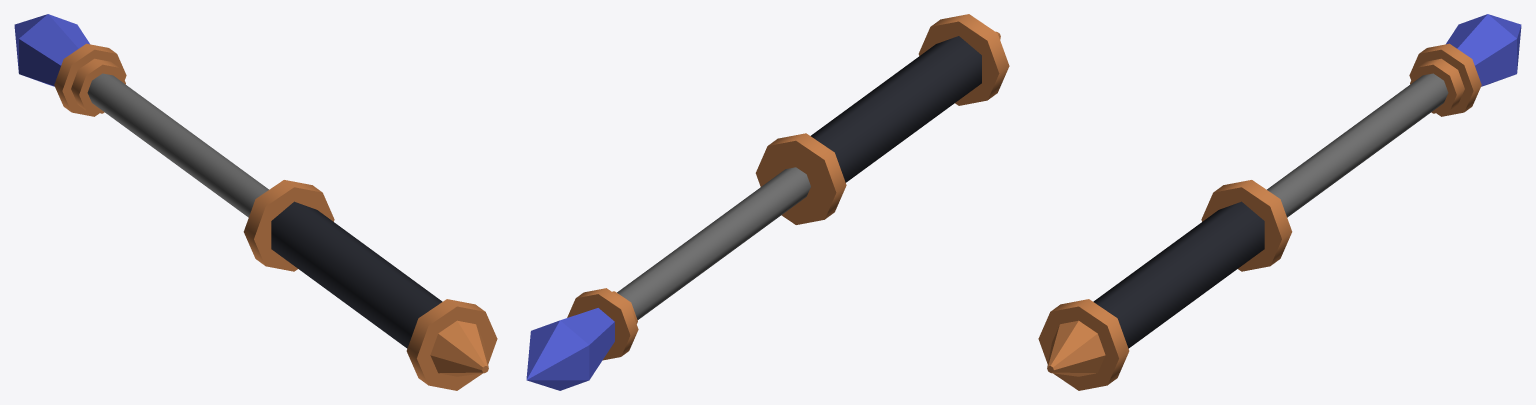
Rendered from Wand_03.fbx.
The picture shows the model from 3 angles, left to right: view 1: azimuth 30°, elevation 25°; view 2: azimuth 150°, elevation 25°; view 3: azimuth 330°, elevation 25°; orthographic projection.
Parts seen in each view (by area): view 1: Wand_03; view 2: Wand_03; view 3: Wand_03.
Part boxes in pixels (bbox=[...]): Wand_03: bbox=[14, 14, 497, 390]; Wand_03: bbox=[526, 14, 1009, 390]; Wand_03: bbox=[1038, 14, 1521, 390].
Bounding box in the file's own units: 0.0351 × 0.0351 × 0.3545.
